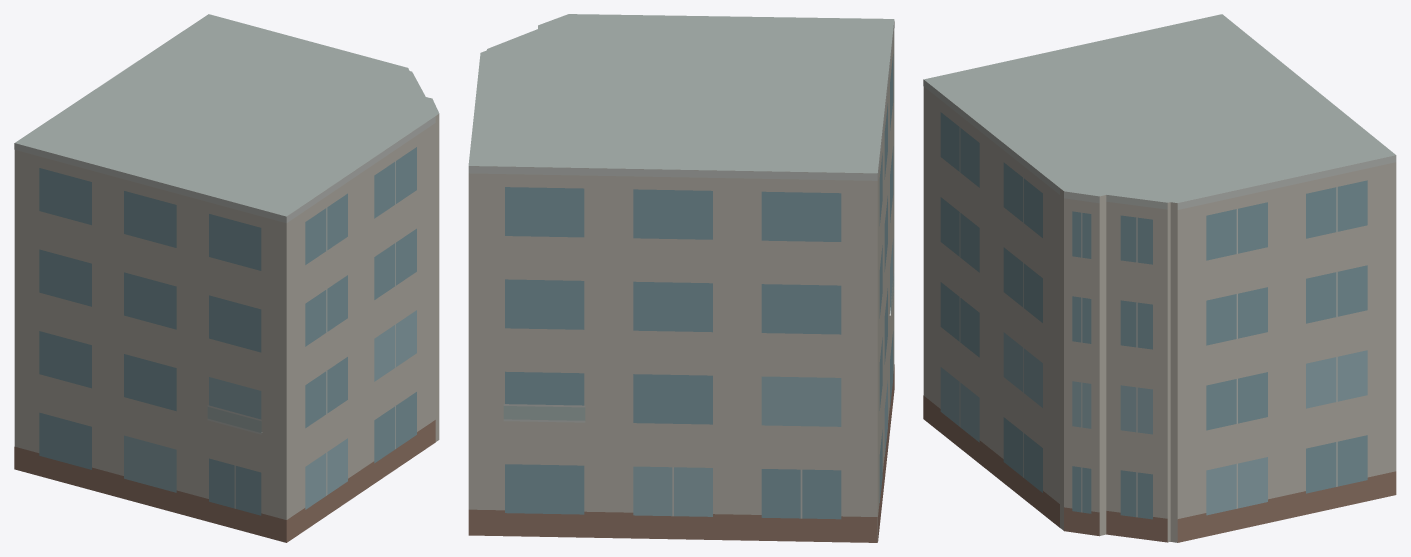
File: survey-upis-32840695.glb
The picture shows the model from 3 angles, left to right: view 1: azimuth 30°, elevation 25°; view 2: azimuth 150°, elevation 25°; view 3: azimuth 270°, elevation 25°; orthographic projection. The views are drawn at different scales.
Parts seen in each view (by area): view 1: survey-upis-32840695.tmp; view 2: survey-upis-32840695.tmp; view 3: survey-upis-32840695.tmp.
Part boxes in pixels (<box>): survey-upis-32840695.tmp: <box>14,14,439,542</box>; survey-upis-32840695.tmp: <box>468,14,894,542</box>; survey-upis-32840695.tmp: <box>923,14,1396,542</box>.
Size of the model in its own units: 14.28 by 11.95 by 15.08.
